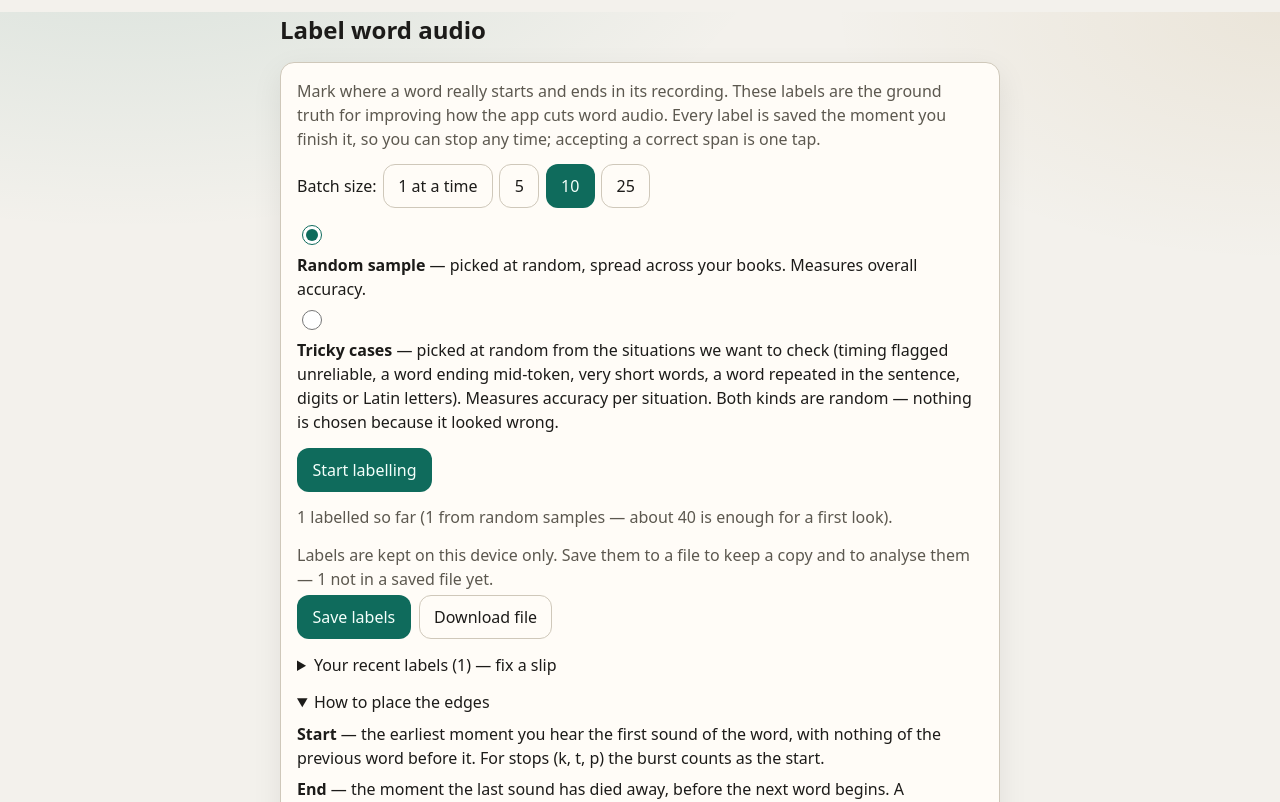
Scenario: LabelWordAudioPage › saves every label on the device to a file with one button, and counts what is new
Expected: the text "1 not in a saved file yet" is shown, [297,568,493,590]
Click the button "Save labels": (354, 617) [297,595,411,639]
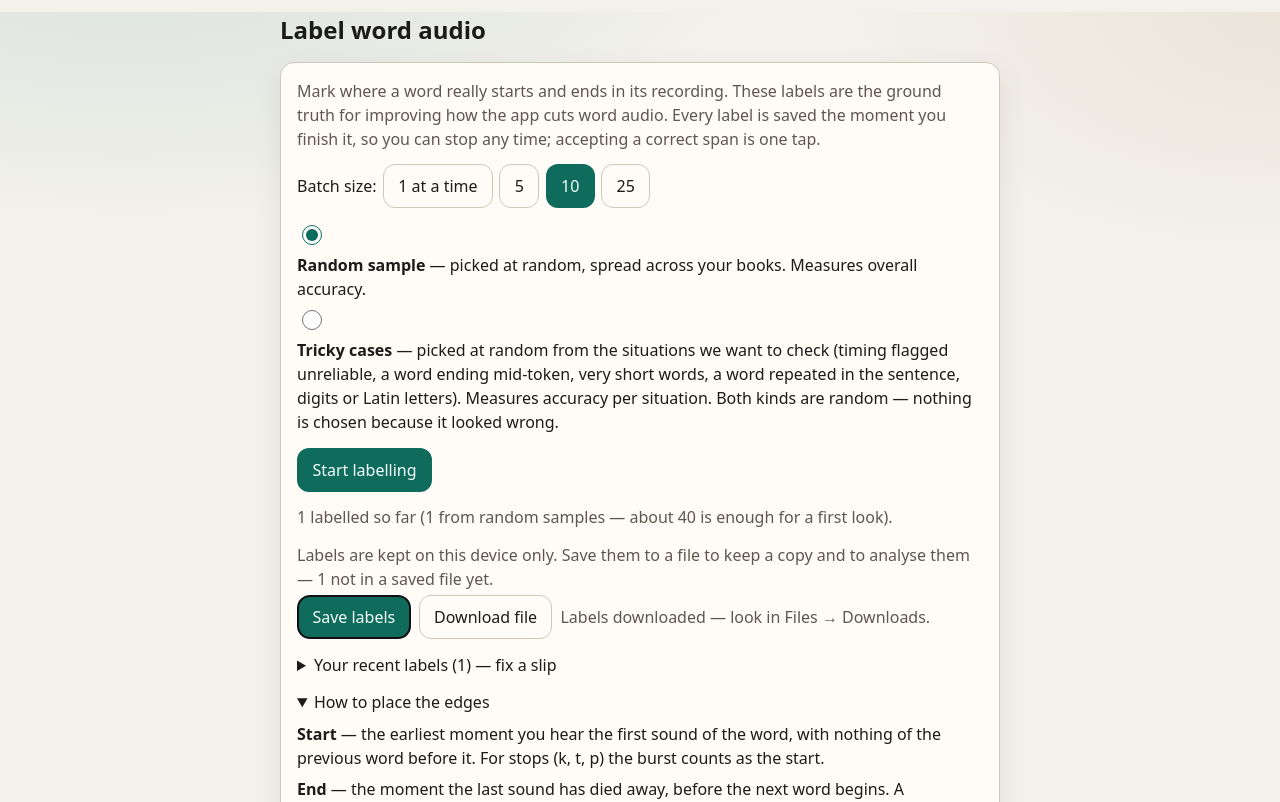
Now the text "Labels downloaded — look in Files → Downloads." is shown, box [560,605,930,629]
